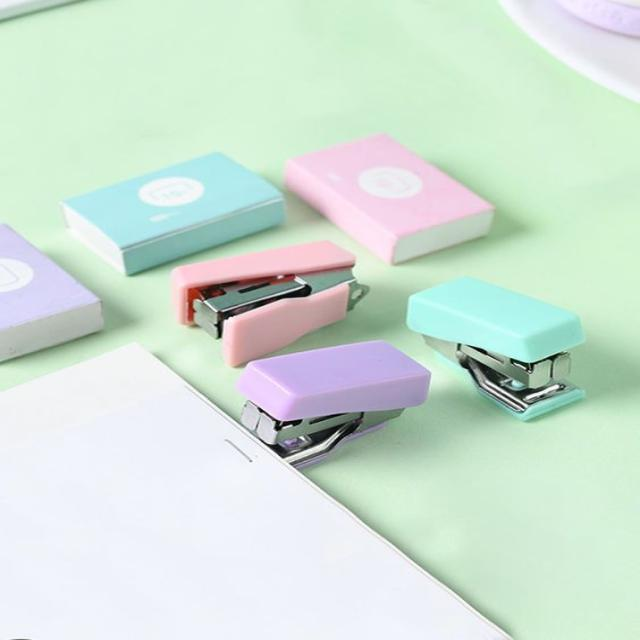Stapler: (400, 266, 625, 439)
